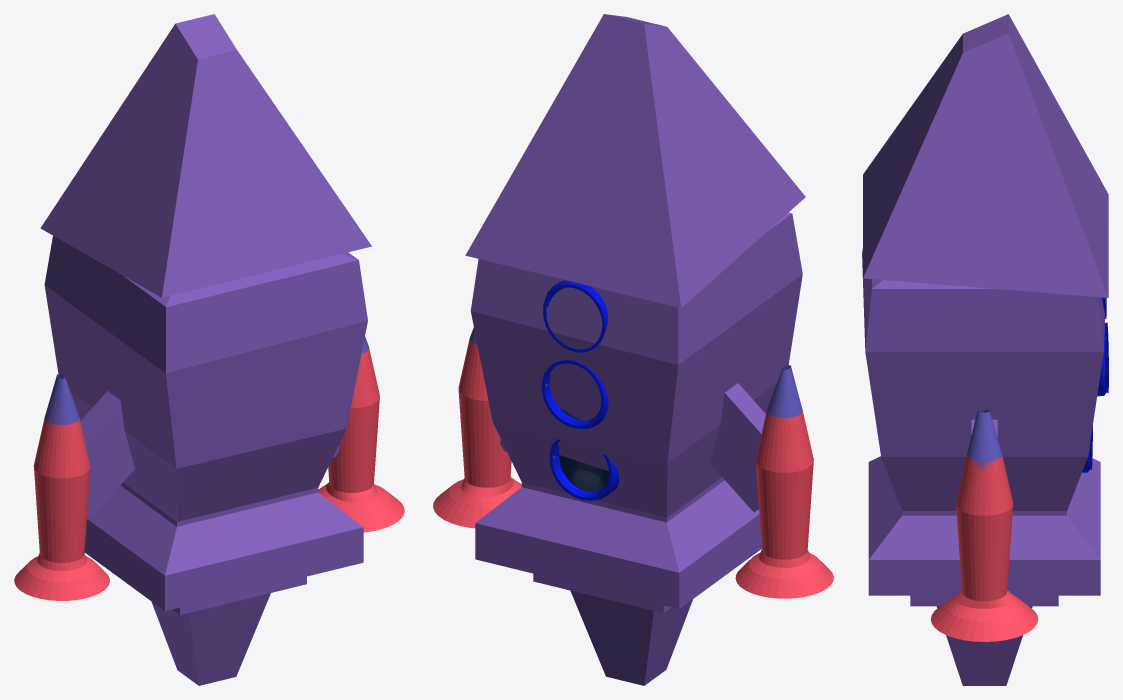
File: rocketColored.glb
3 views of the same model, side by side, from view 1: azimuth 30°, elevation 25°; view 2: azimuth 150°, elevation 25°; view 3: azimuth 270°, elevation 25° (orthographic). The views are drawn at different scales.
Visible parts, largest first — view 1: Cube.001; view 2: Cube.001, Cylinder, Cylinder.001, Cylinder.002; view 3: Cube.001, Cylinder.001.
Boxes of the visible parts, <box> form: Cube.001: <box>14,14,404,685</box>; Cube.001: <box>433,14,833,685</box>; Cylinder: <box>549,439,619,500</box>; Cylinder.001: <box>541,360,608,428</box>; Cylinder.002: <box>543,280,607,352</box>; Cube.001: <box>862,14,1108,685</box>; Cylinder.001: <box>1097,322,1108,396</box>.
Size of the model in its own units: 7.03 by 11.51 by 3.95.
2 materials, 2 textured.
